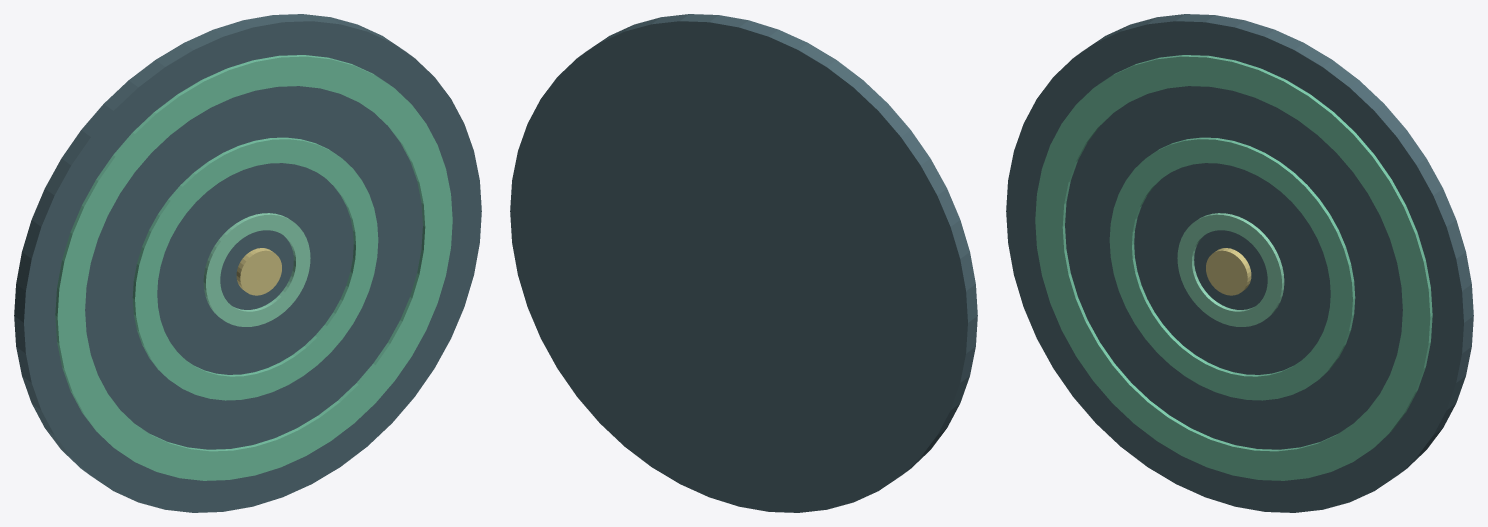
The model's file is target.glb.
3 renders of one model, left to right at view 1: azimuth 30°, elevation 25°; view 2: azimuth 150°, elevation 25°; view 3: azimuth 330°, elevation 25°, orthographic.
Visible parts, largest first — view 1: target_part_00, target_part_01, target_part_02, target_part_03, target_part_04; view 2: target_part_00; view 3: target_part_00, target_part_01, target_part_02, target_part_03, target_part_04.
Boxes of the visible parts, x1,y1,x2,y2 form: target_part_00: [14, 14, 481, 512]; target_part_01: [55, 55, 452, 480]; target_part_02: [132, 137, 378, 400]; target_part_03: [203, 213, 310, 326]; target_part_04: [236, 248, 281, 295]; target_part_00: [510, 14, 977, 512]; target_part_00: [1006, 14, 1473, 512]; target_part_01: [1035, 55, 1432, 480]; target_part_02: [1109, 137, 1355, 400]; target_part_03: [1177, 213, 1284, 326]; target_part_04: [1206, 248, 1251, 295].
Bounding box in the file's own units: 0.35 × 0.35 × 0.024.
